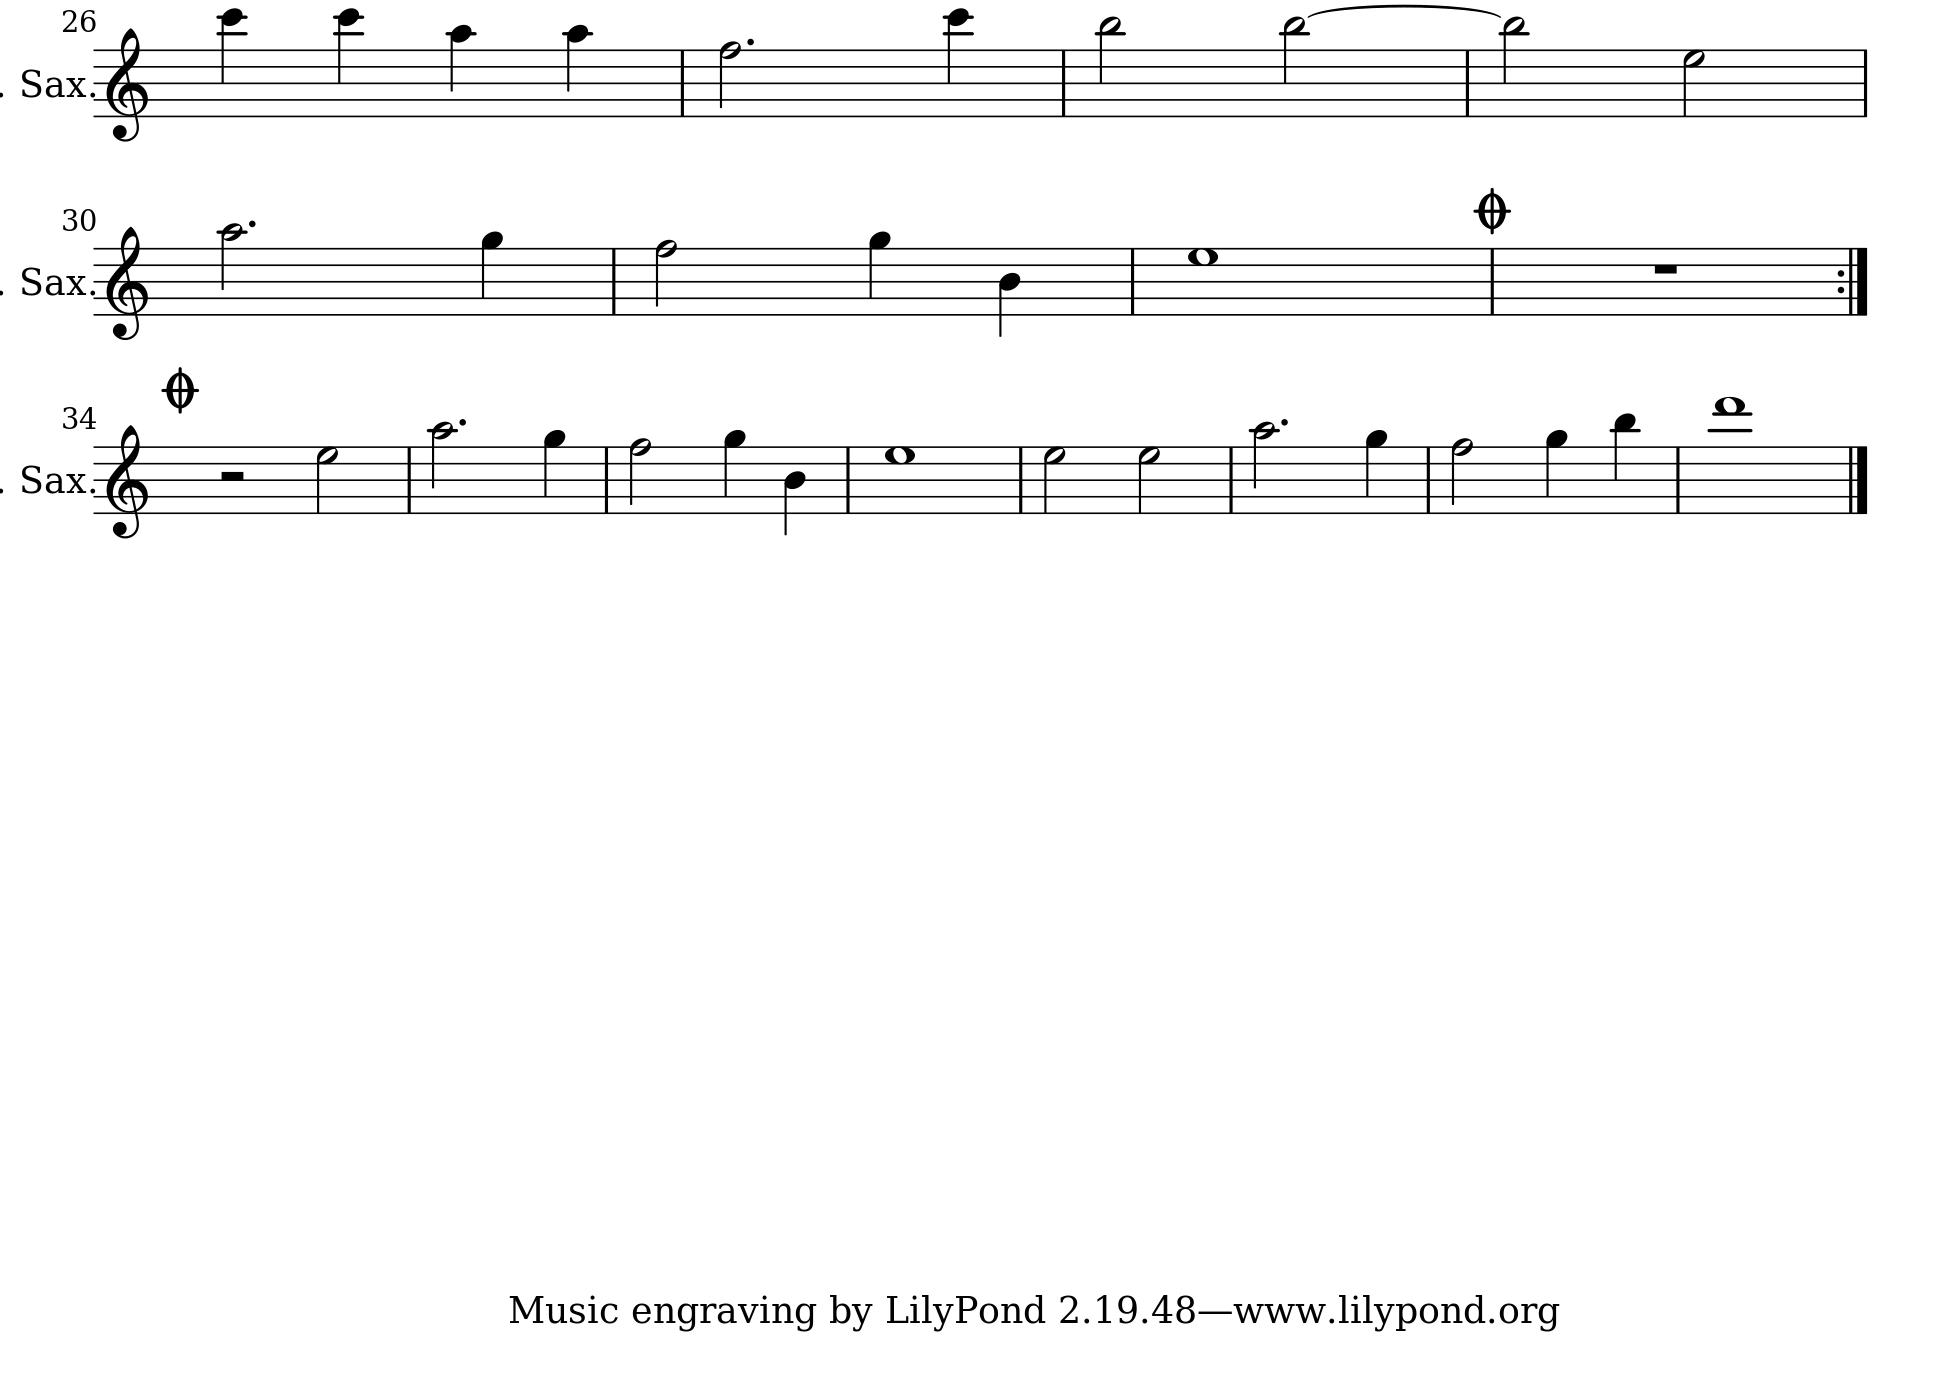0: (78, 207, 97, 234)
1_13: (1711, 394, 1749, 516)
1_7: (1188, 246, 1221, 316), (883, 444, 916, 514)
2: (58, 7, 79, 34)
2_10: (1249, 418, 1279, 516), (216, 220, 244, 318), (427, 418, 454, 514)
2_11: (1096, 16, 1125, 118), (1281, 16, 1308, 120), (1500, 16, 1527, 118)
2_7: (1680, 46, 1707, 118), (313, 444, 340, 516), (1137, 442, 1162, 514), (1042, 444, 1068, 514)
2_8: (1449, 435, 1476, 516), (652, 237, 679, 316), (627, 435, 652, 516), (717, 39, 742, 118)
3: (61, 205, 79, 234), (61, 405, 78, 430)
4: (78, 405, 97, 430)
4_10: (562, 21, 591, 118), (445, 22, 474, 118)
4_11: (1611, 411, 1638, 514)
4_12: (216, 4, 246, 118), (333, 4, 363, 118), (943, 6, 972, 118)
4_4: (996, 244, 1023, 337), (781, 442, 807, 535)
4_9: (865, 228, 892, 316), (540, 427, 567, 514), (1362, 427, 1389, 514), (1543, 427, 1570, 514), (478, 229, 504, 316), (721, 427, 745, 514)
6: (79, 7, 97, 34)
Coda: (160, 364, 199, 412), (1473, 186, 1512, 232)
Final_barline: (1843, 444, 1870, 513)
Gclef: (103, 223, 150, 342), (103, 25, 150, 142), (105, 421, 148, 540)
Rests1: (1650, 259, 1681, 276)
Rests2: (216, 466, 249, 486)
RightRepeatSign: (1836, 247, 1872, 315)
Sax: (16, 63, 87, 103), (16, 262, 87, 301), (16, 460, 87, 499)
Single_barline: (1011, 445, 1032, 513), (604, 247, 625, 313), (1123, 247, 1144, 313), (1419, 445, 1440, 511), (1668, 445, 1689, 511), (673, 48, 693, 115), (597, 445, 616, 511), (838, 445, 858, 511), (1222, 445, 1242, 511), (1056, 48, 1074, 115), (1459, 48, 1477, 115), (400, 445, 418, 513), (1857, 49, 1873, 115), (1485, 247, 1500, 313)
Slur: (1305, 1, 1506, 19)
dot: (1278, 415, 1290, 429), (744, 34, 756, 46), (244, 217, 256, 229), (456, 415, 468, 427)
